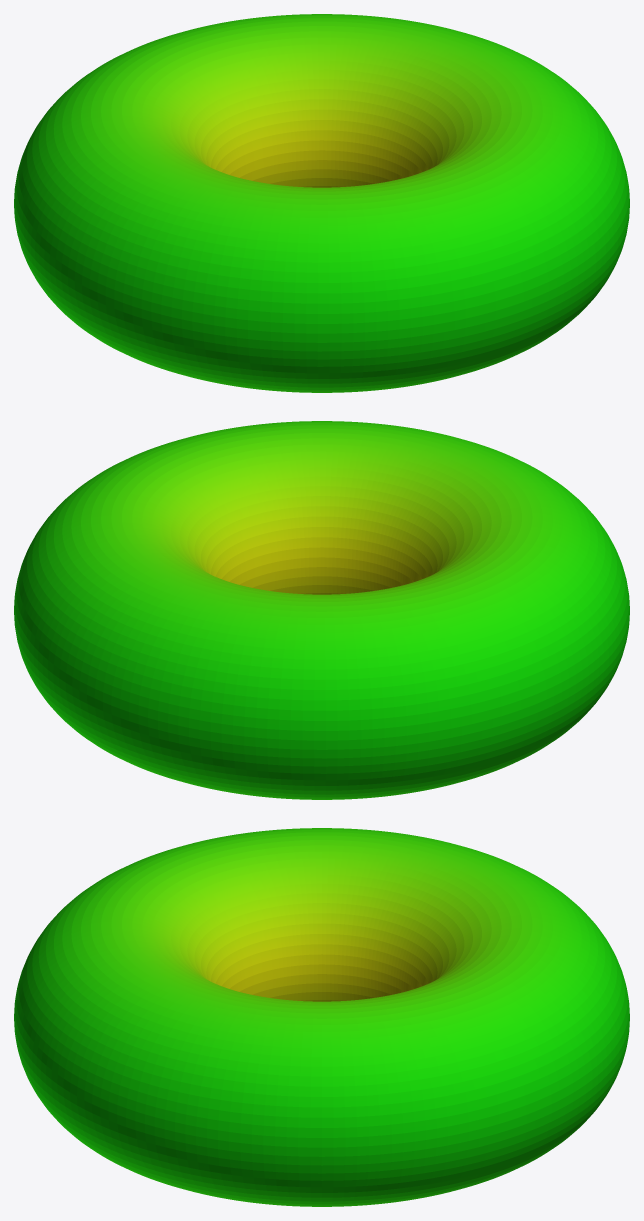
The model's file is TorusNormal.fbx.
3 renders of one model, top to bottom at view 1: azimuth 30°, elevation 25°; view 2: azimuth 150°, elevation 25°; view 3: azimuth 270°, elevation 25°, orthographic.
Visible parts, largest first — view 1: TorusNormal; view 2: TorusNormal; view 3: TorusNormal.
Boxes of the visible parts, <box> form: TorusNormal: <box>14,14,629,392</box>; TorusNormal: <box>14,421,629,799</box>; TorusNormal: <box>14,828,629,1206</box>.
Bounding box in the file's own units: 1.5 × 0.4994 × 1.5.
